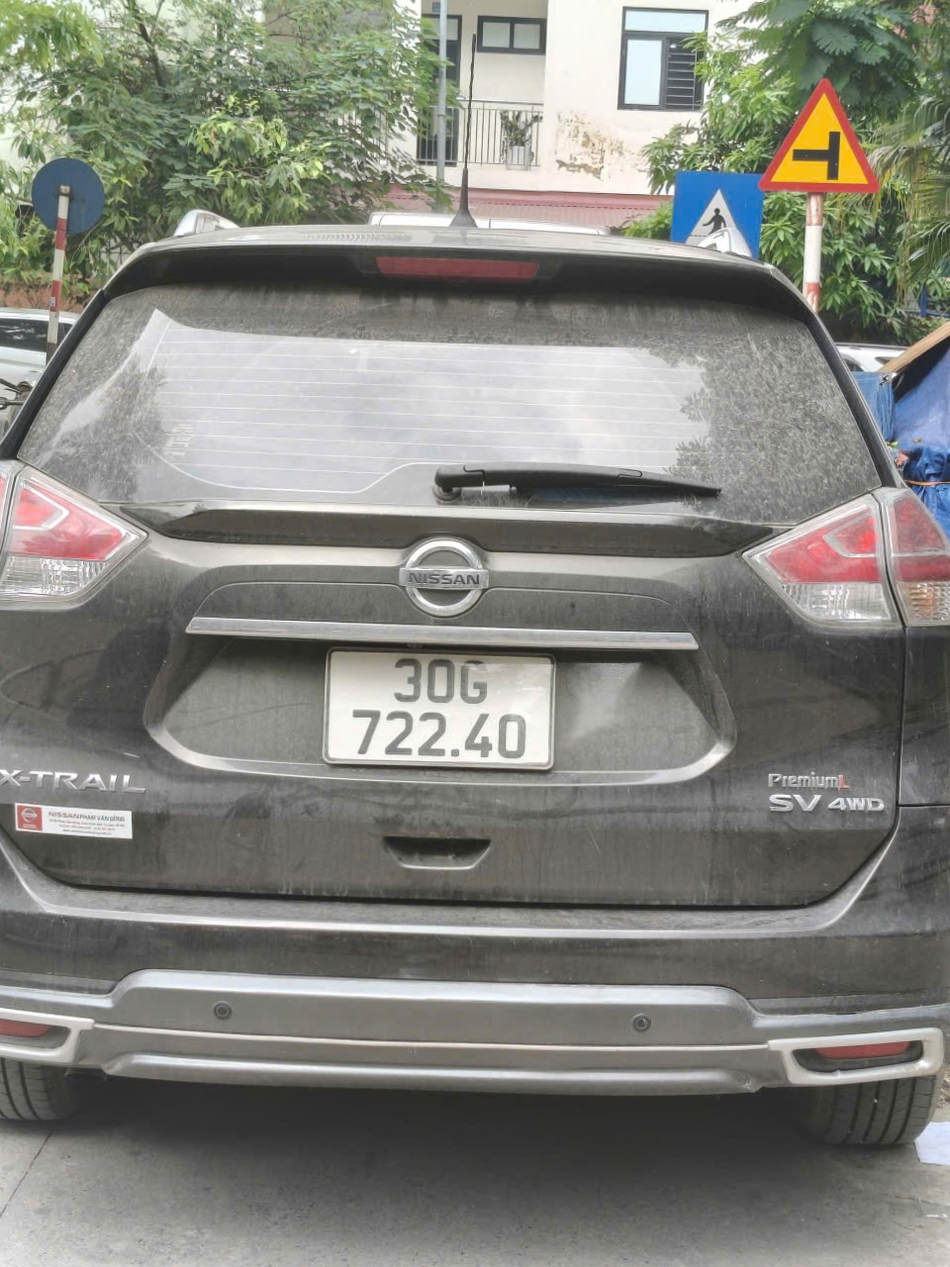plate: (461, 197, 640, 229)
